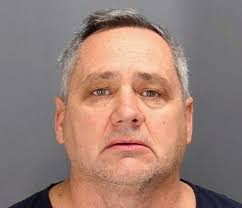person: (54, 9, 193, 192)
